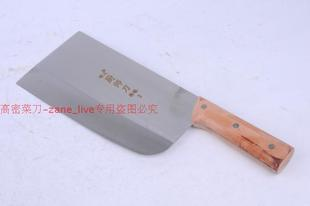knief: (7, 52, 296, 172)
